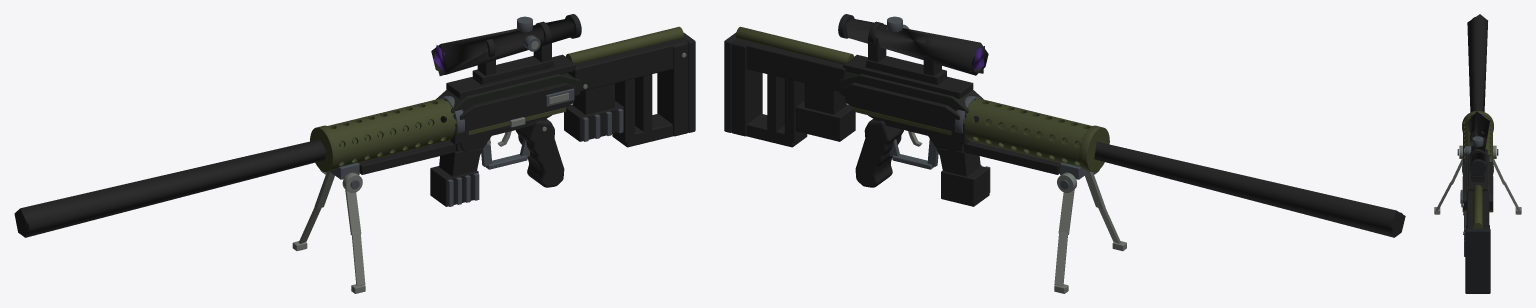
3 renders of one model, left to right at view 1: azimuth 30°, elevation 25°; view 2: azimuth 150°, elevation 25°; view 3: azimuth 270°, elevation 25°, orthographic. The views are drawn at different scales.
Parts seen in each view (by area): view 1: sniper; view 2: sniper; view 3: sniper.
Boxes of the visible parts, box(x1,y1,x2,y2) form: sniper: box(14, 14, 695, 293); sniper: box(724, 14, 1405, 293); sniper: box(1434, 14, 1521, 293).
Size of the model in its own units: 1.91 by 0.554 by 0.311.
